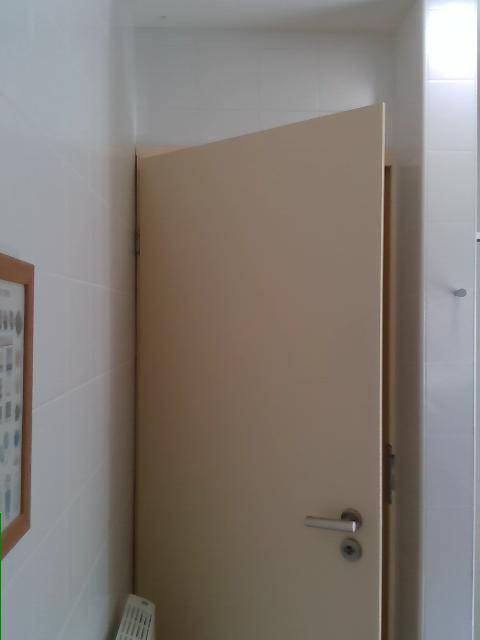door: (133, 97, 384, 639)
